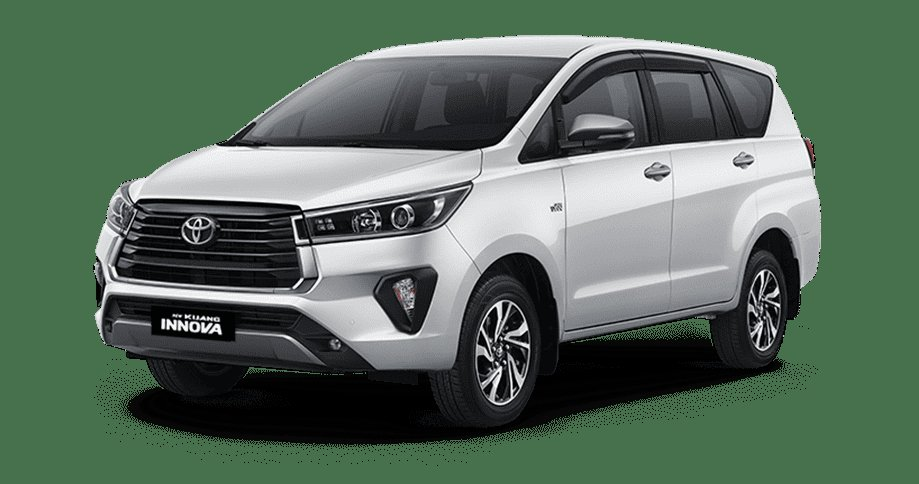mobil: (77, 36, 840, 436)
